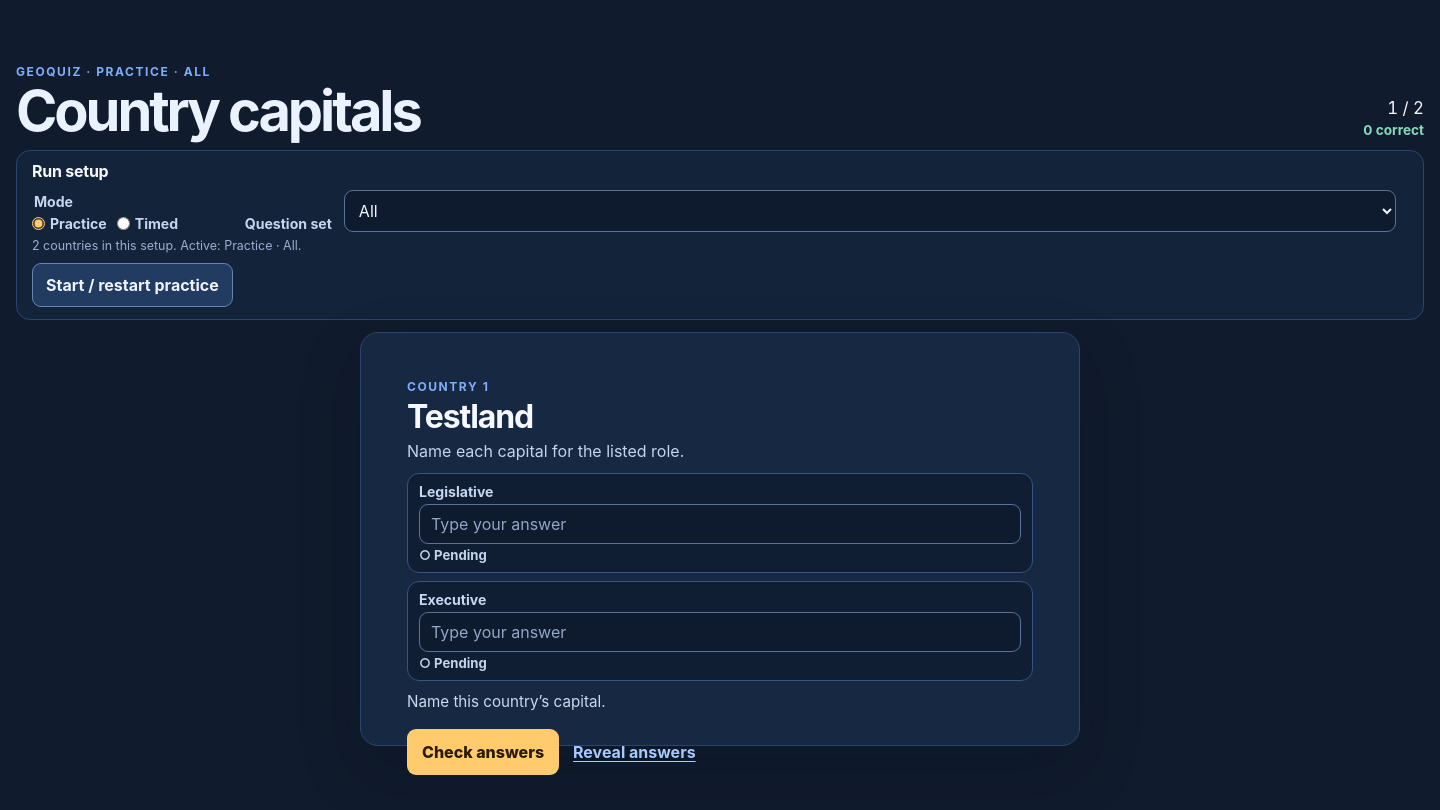
Scenario: CountryCapitalQuiz › rotates timed skips and restores typed, independently locked fields on return
Step 1. Click the radio button labelled "Timed" → coordinates (123, 223), box [117,217,130,230]
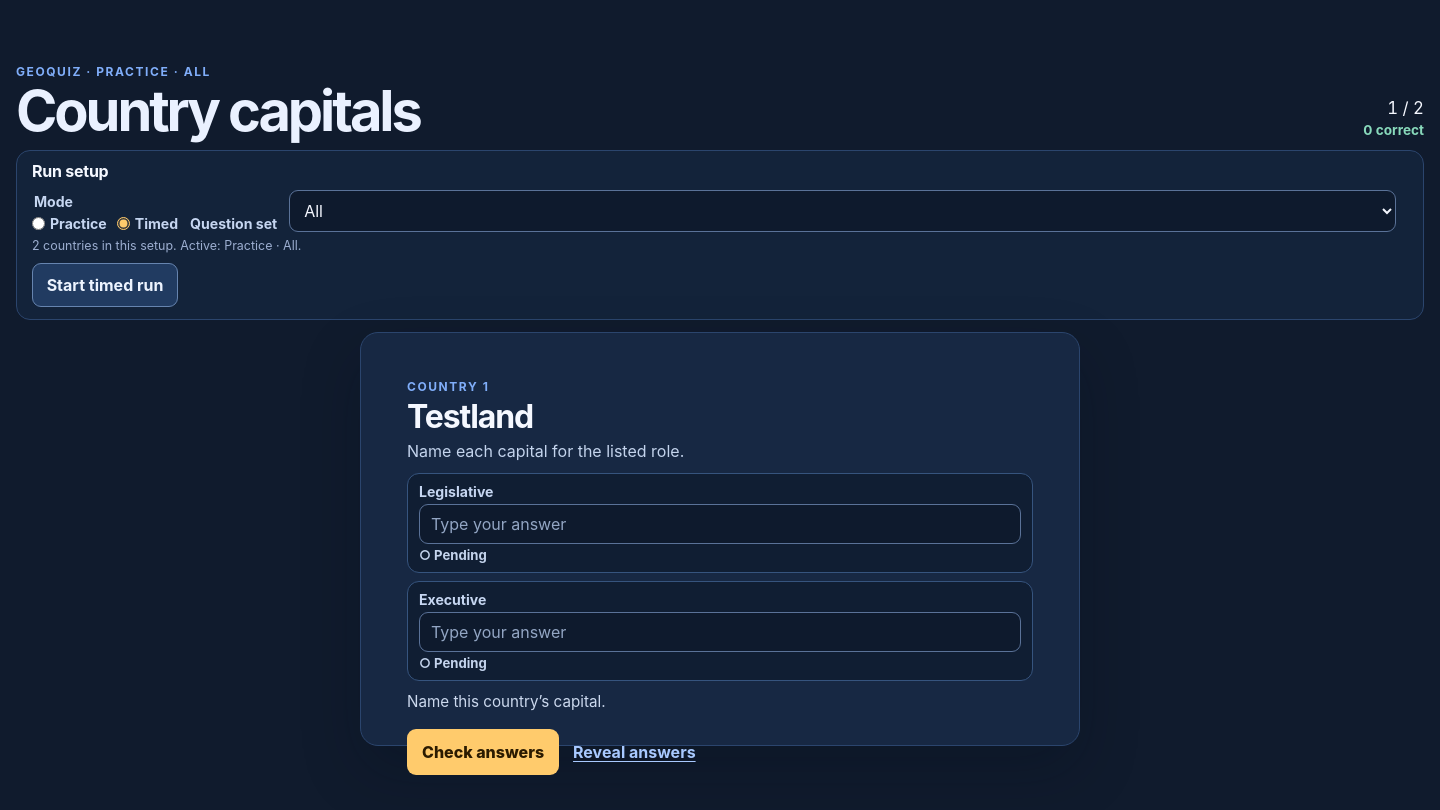
Step 2. Click the button "Start timed run" → coordinates (105, 285), box [32,263,178,307]
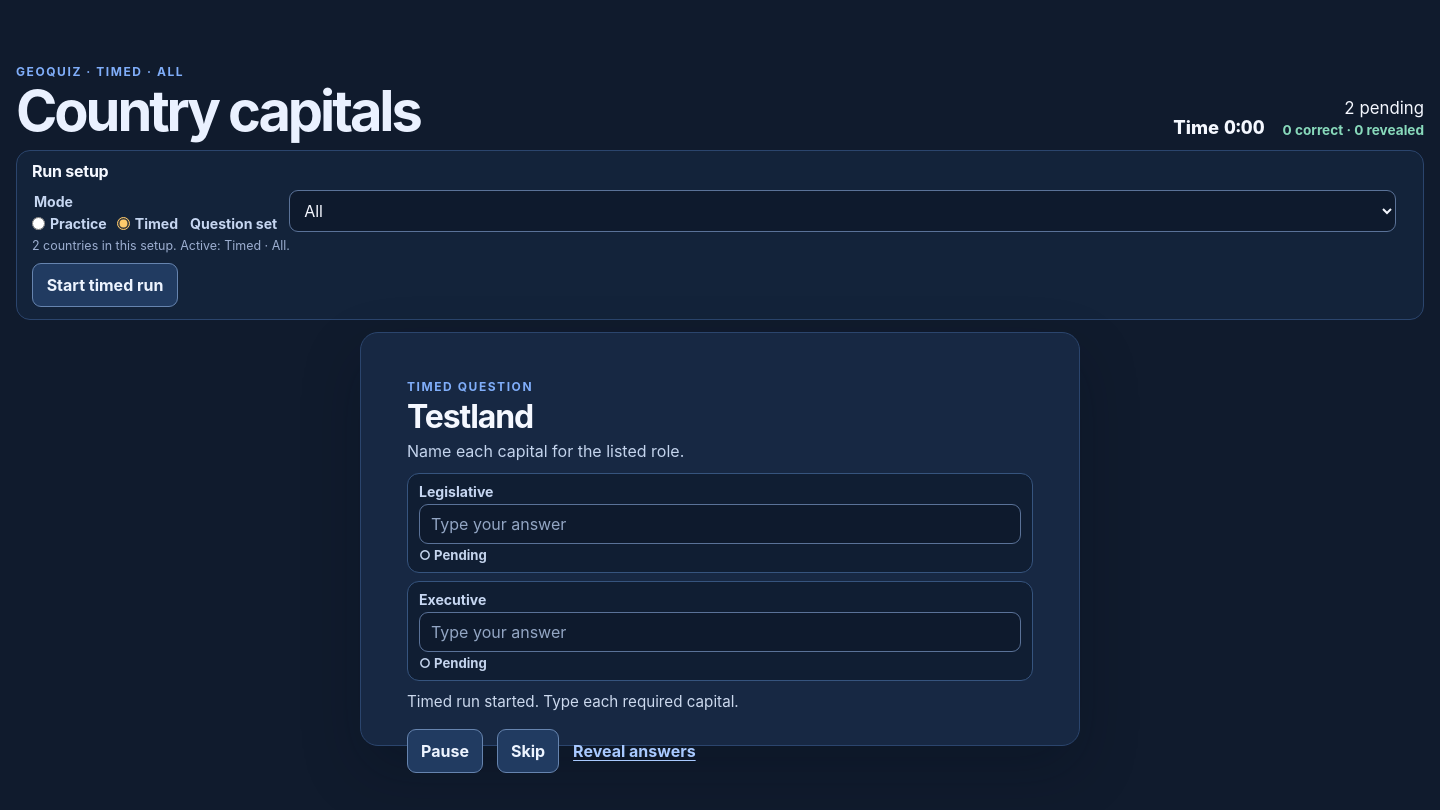
Step 3. Type "Alpha City" into the field labelled "Legislative" → coordinates (720, 524), box [419,504,1021,544]
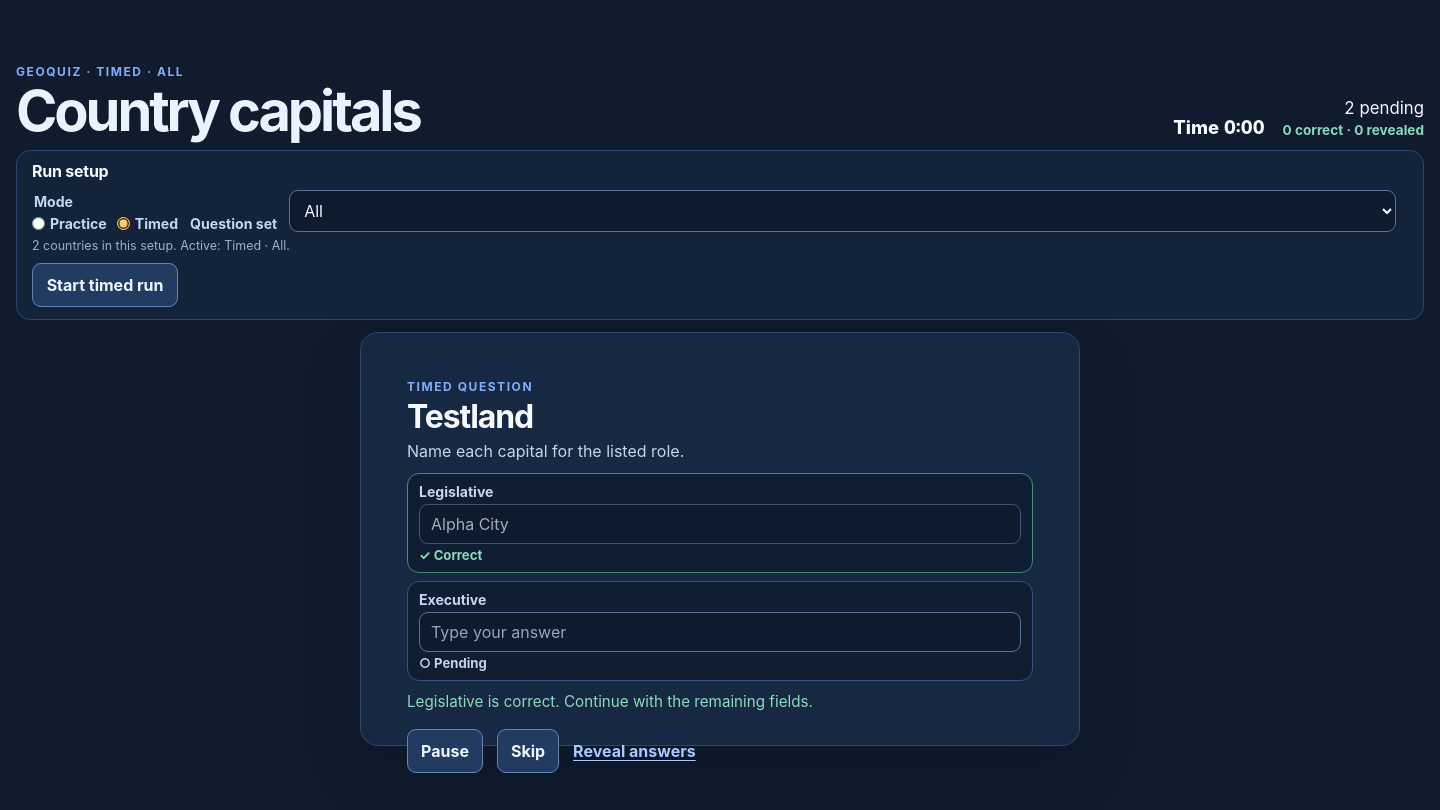
Result: the field labelled "Legislative" is disabled at [419,504,1021,544]
Step 4. Click the button "Skip" → coordinates (528, 751), box [497,729,559,773]
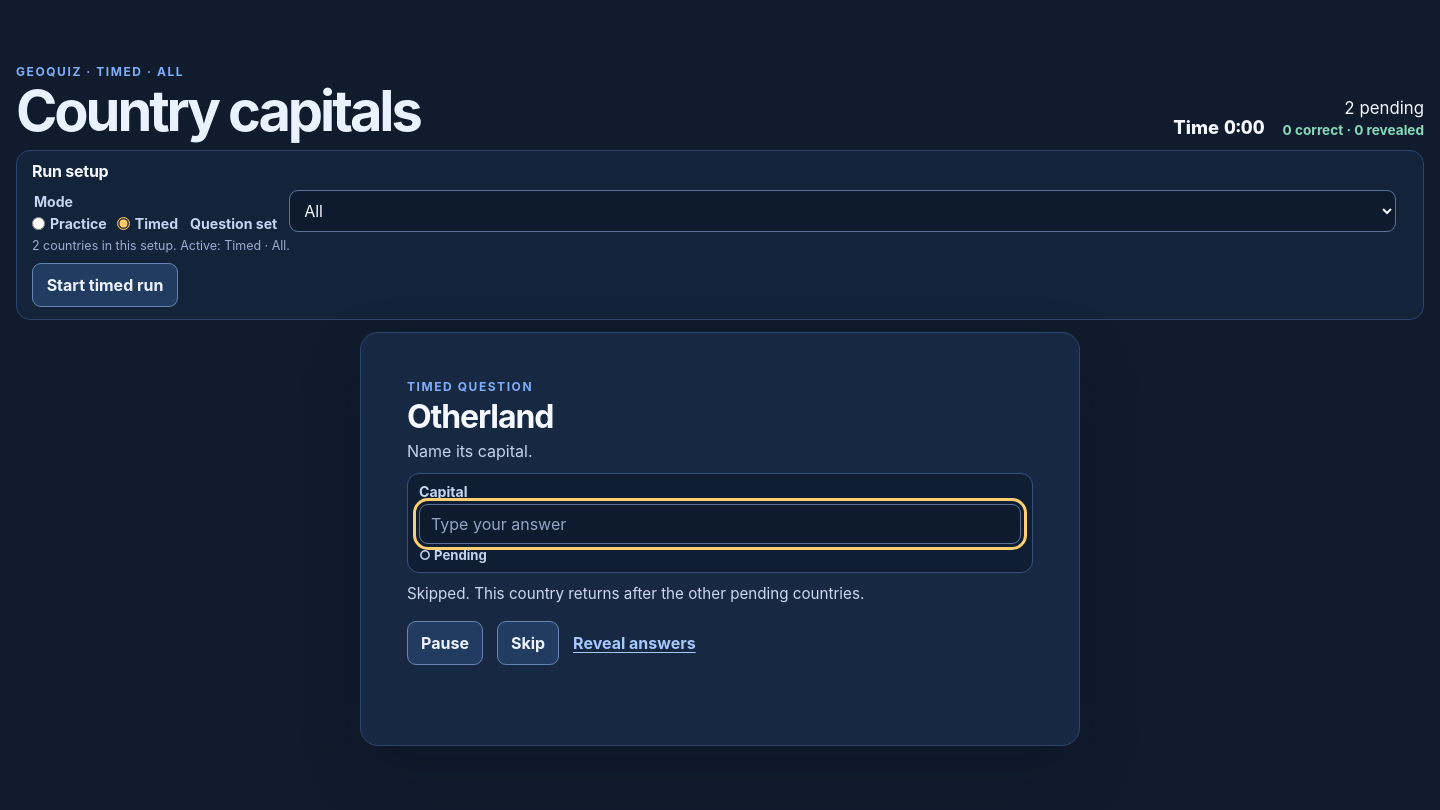
Result: the heading "Otherland" is shown at [407,397,553,436]
Step 5. Click the button "Skip" → coordinates (528, 643), box [497,621,559,665]
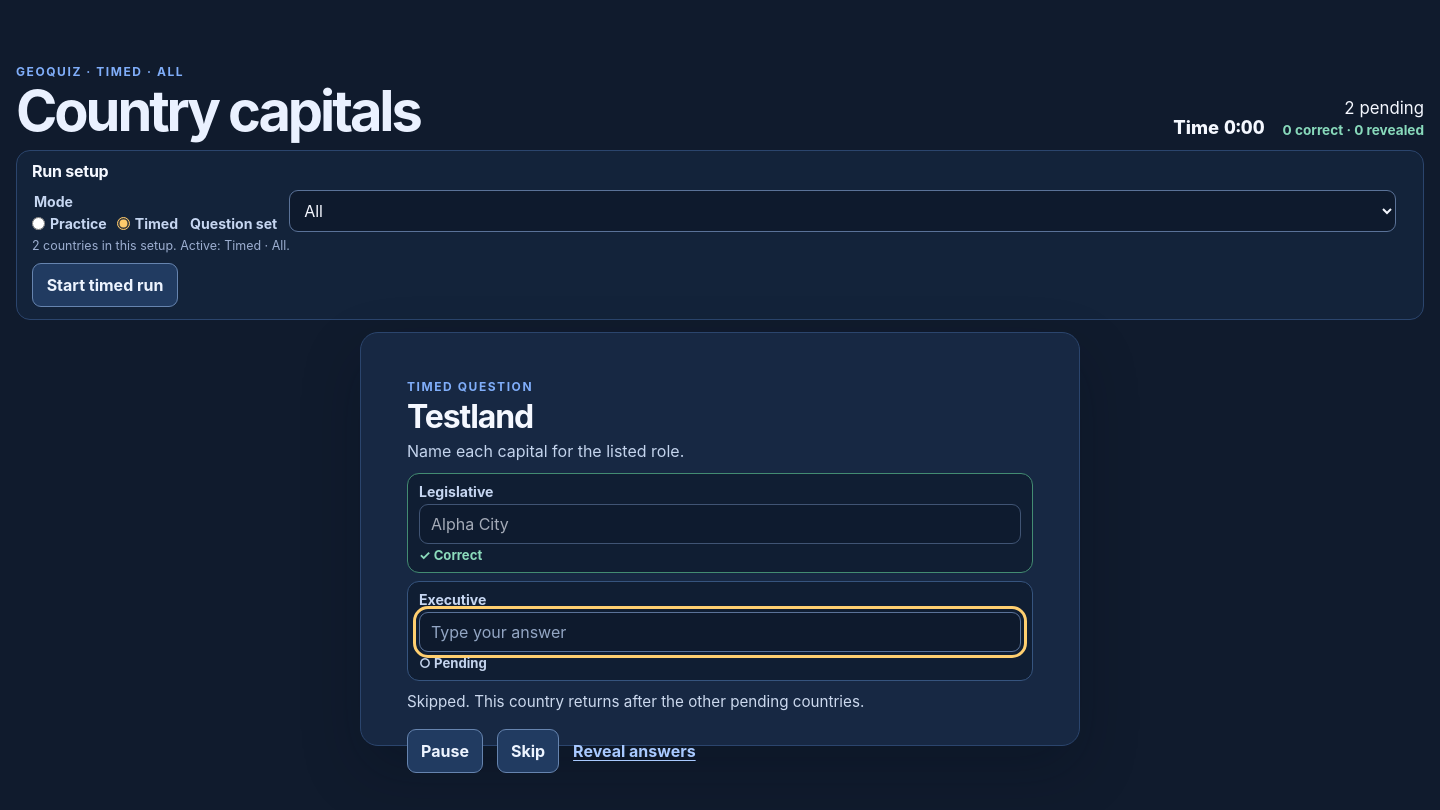
Result: the heading "Testland" is shown at [407,397,533,436]
Result: the field labelled "Legislative" holds "Alpha City" at [419,504,1021,544]
Result: the field labelled "Legislative" is disabled at [419,504,1021,544]
